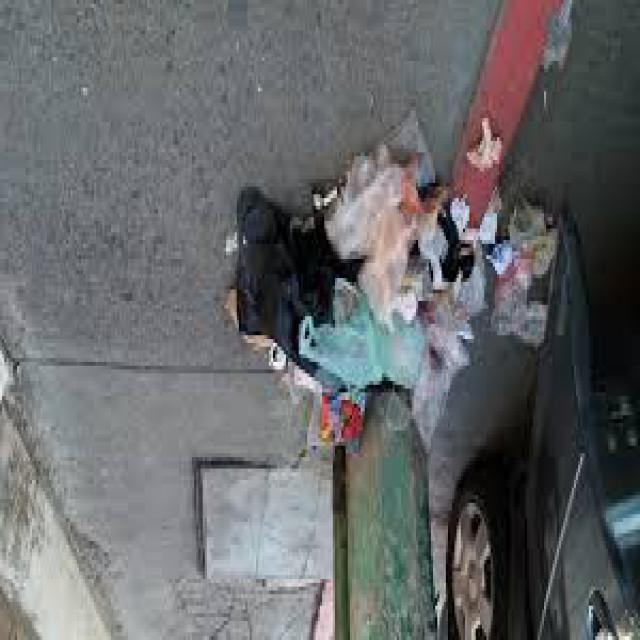Trashbag: (229, 207, 330, 344)
